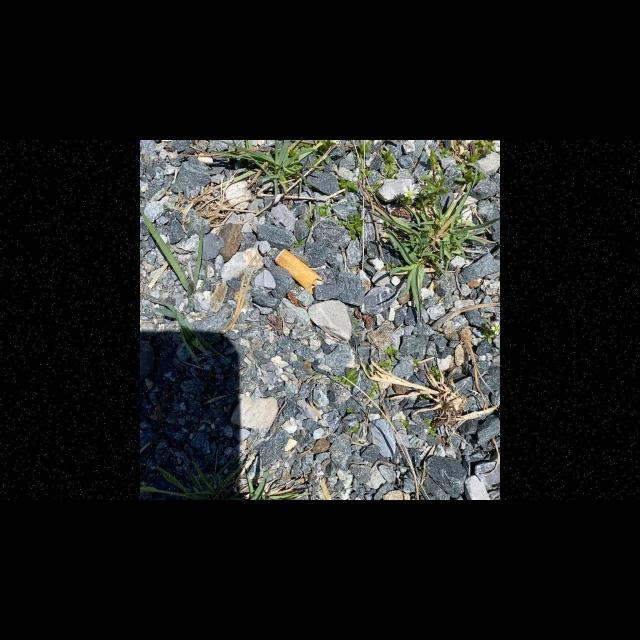cigarette: (275, 248, 325, 294)
